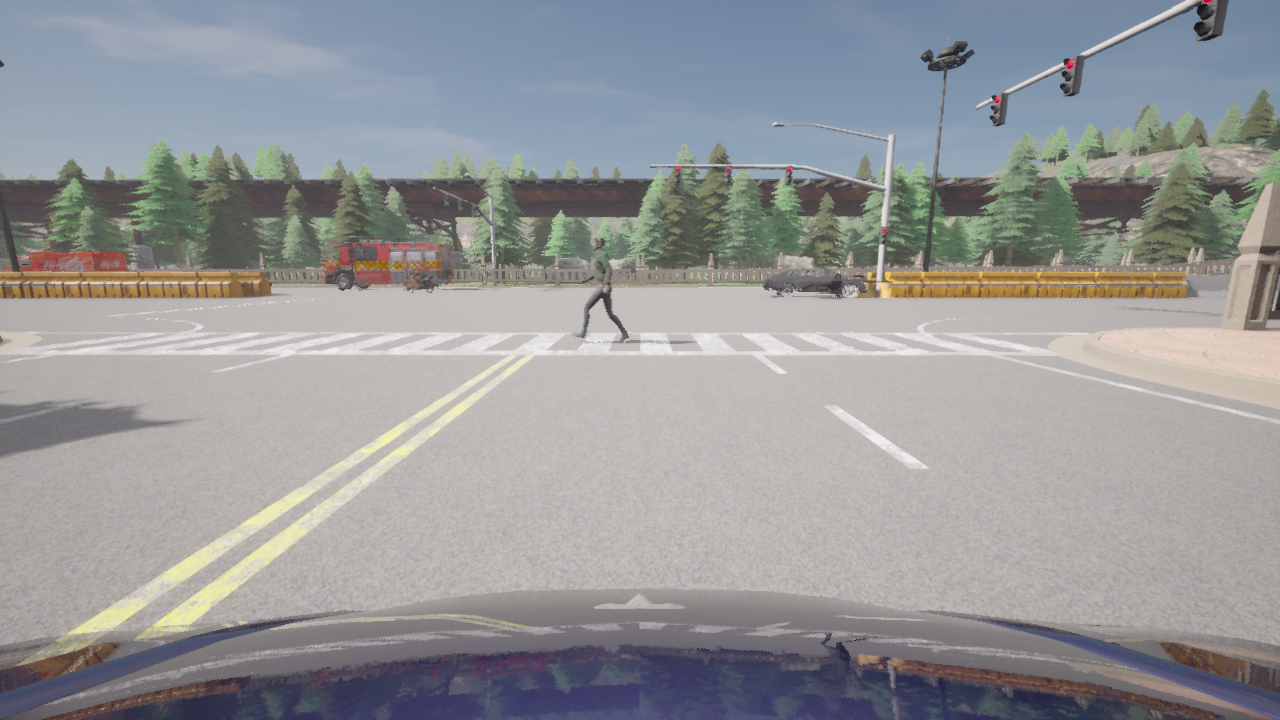cyclist: (0, 588, 1279, 719), (320, 236, 453, 290), (764, 267, 867, 298), (0, 251, 127, 271), (405, 274, 434, 293)
pedestrian: (571, 236, 629, 343)
